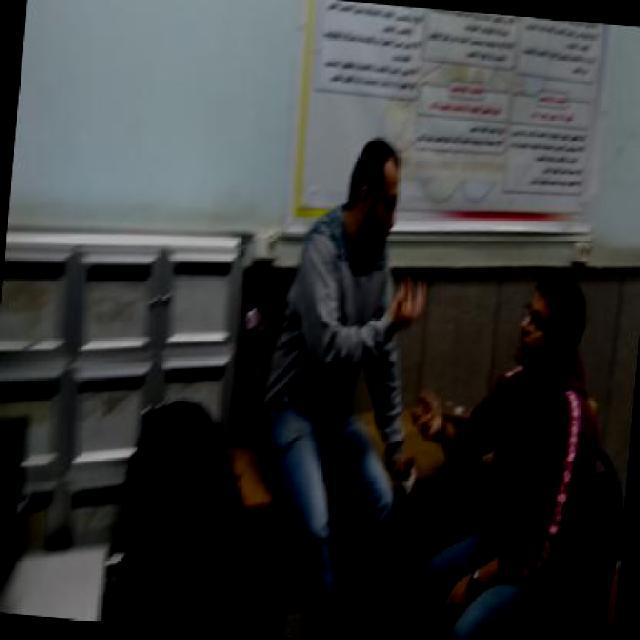non-fight: (249, 128, 437, 578), (397, 266, 616, 639)
